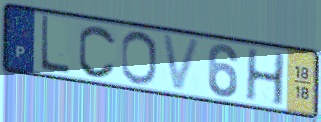6: (206, 43, 240, 99)
C: (77, 23, 118, 81)
H: (243, 47, 287, 108)
L: (39, 14, 72, 77)
O: (119, 30, 159, 87)
V: (159, 32, 204, 94)
